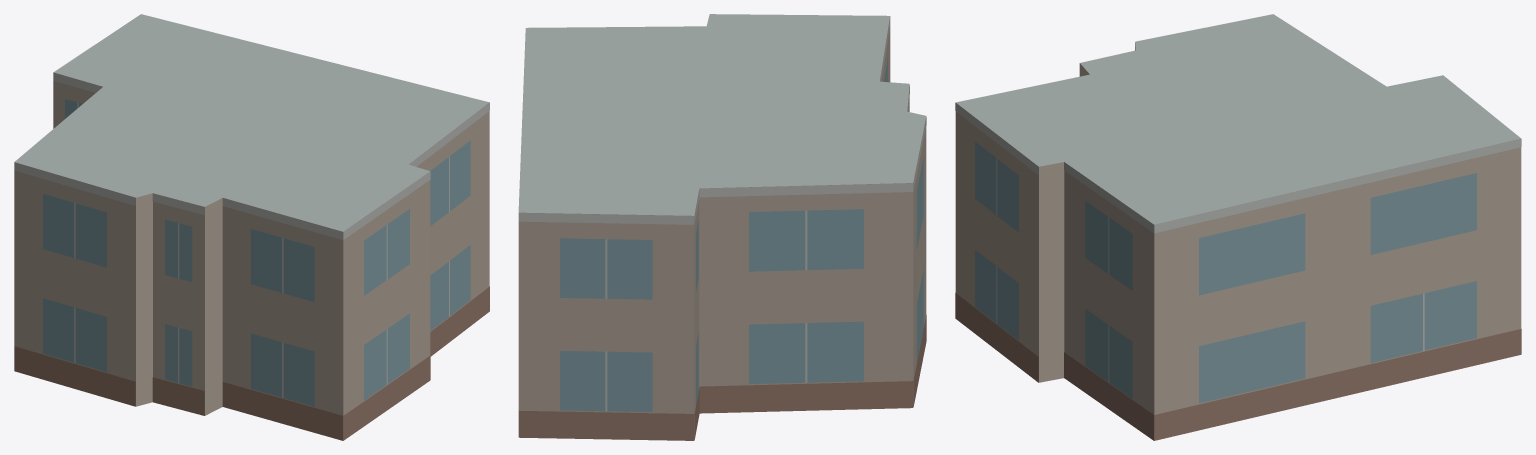
The model's file is survey-upis-32669455.glb.
3 renders of one model, left to right at view 1: azimuth 30°, elevation 25°; view 2: azimuth 150°, elevation 25°; view 3: azimuth 270°, elevation 25°, orthographic. The views are drawn at different scales.
Visible parts, largest first — view 1: survey-upis-32669455.tmp; view 2: survey-upis-32669455.tmp; view 3: survey-upis-32669455.tmp.
Part boxes in pixels (box(x1,y1,x2,y2)): survey-upis-32669455.tmp: box(14, 14, 489, 440); survey-upis-32669455.tmp: box(518, 14, 926, 440); survey-upis-32669455.tmp: box(955, 14, 1521, 440).
Bounding box in the file's own units: 12.77 × 6.1 × 14.49.
